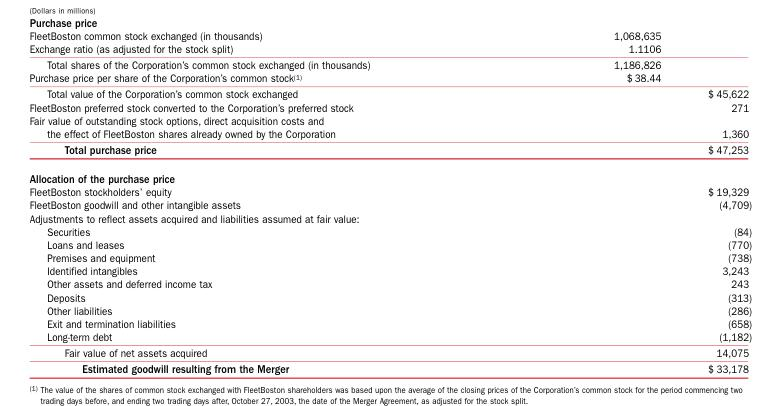table: (28, 28, 751, 375)
table column: (28, 28, 491, 375), (491, 28, 683, 375), (683, 28, 751, 375)
table column header: (28, 28, 751, 100)
table projected row header: (28, 163, 751, 185), (28, 211, 751, 224)
table row: (28, 28, 751, 100), (28, 113, 751, 141), (28, 141, 751, 163), (28, 163, 751, 185), (28, 344, 751, 360), (28, 329, 751, 344), (28, 360, 751, 375), (28, 250, 751, 264), (28, 100, 751, 113), (28, 185, 751, 198), (28, 198, 751, 211), (28, 211, 751, 224), (28, 224, 751, 237), (28, 237, 751, 250), (28, 264, 751, 277), (28, 277, 751, 290), (28, 290, 751, 303), (28, 303, 751, 316), (28, 316, 751, 329)
